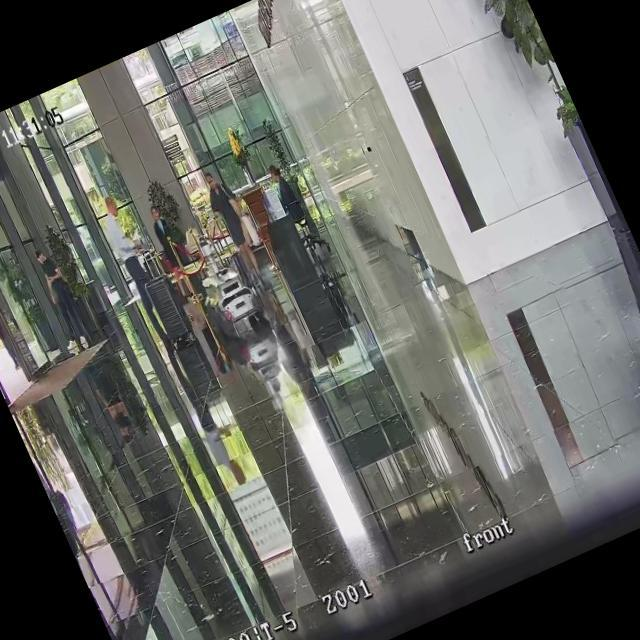person: (95, 192, 188, 362), (198, 164, 274, 291), (29, 244, 96, 356), (142, 198, 208, 304), (264, 160, 304, 222), (0, 283, 22, 372)
